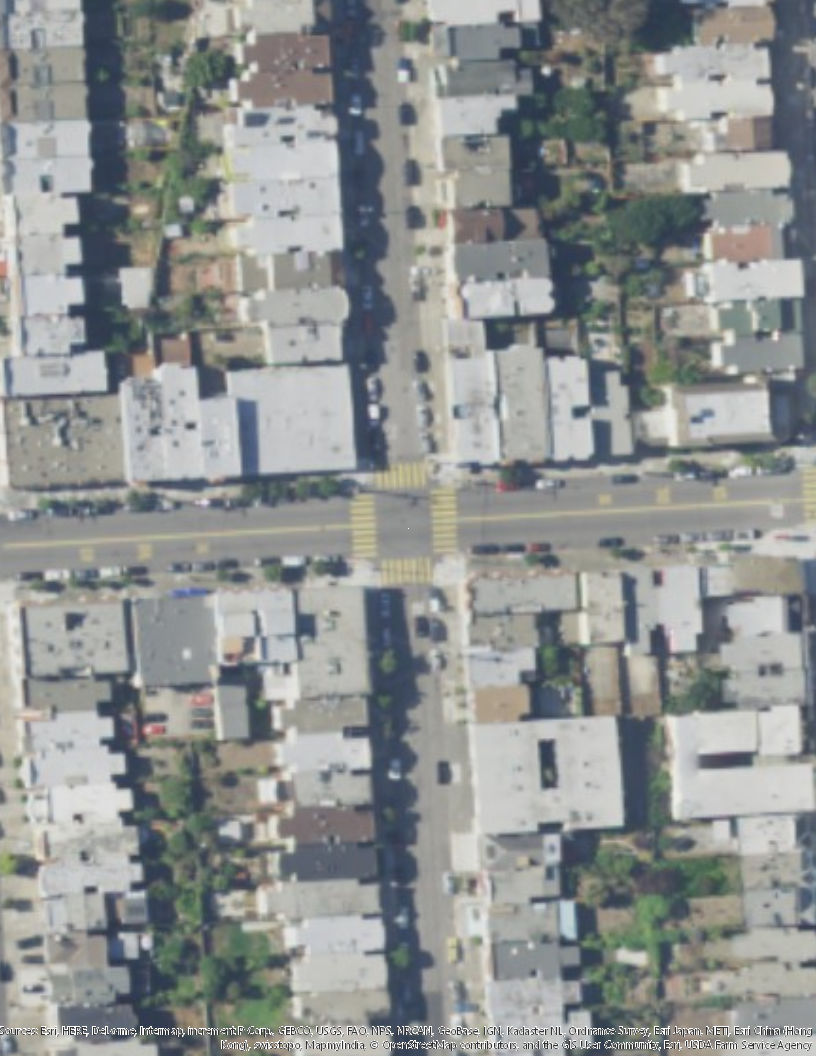zebracross: (373, 457, 433, 492), (431, 486, 463, 551), (349, 491, 377, 561), (377, 552, 435, 585), (797, 465, 816, 526)
